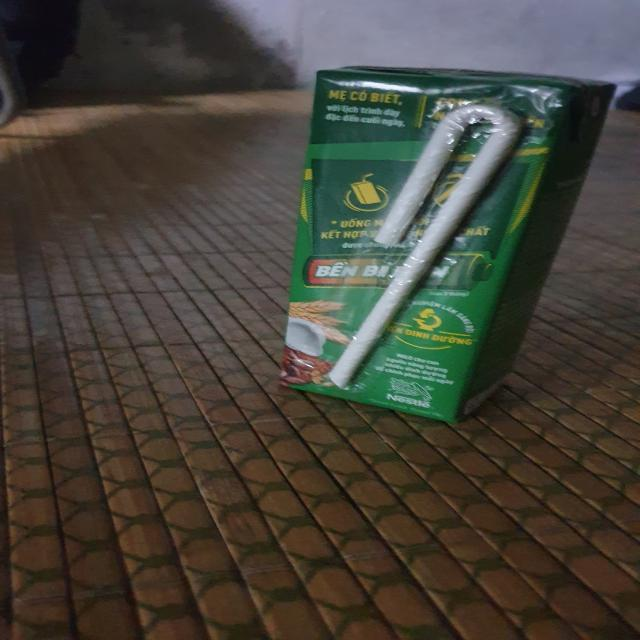Milo: (278, 69, 616, 423)
